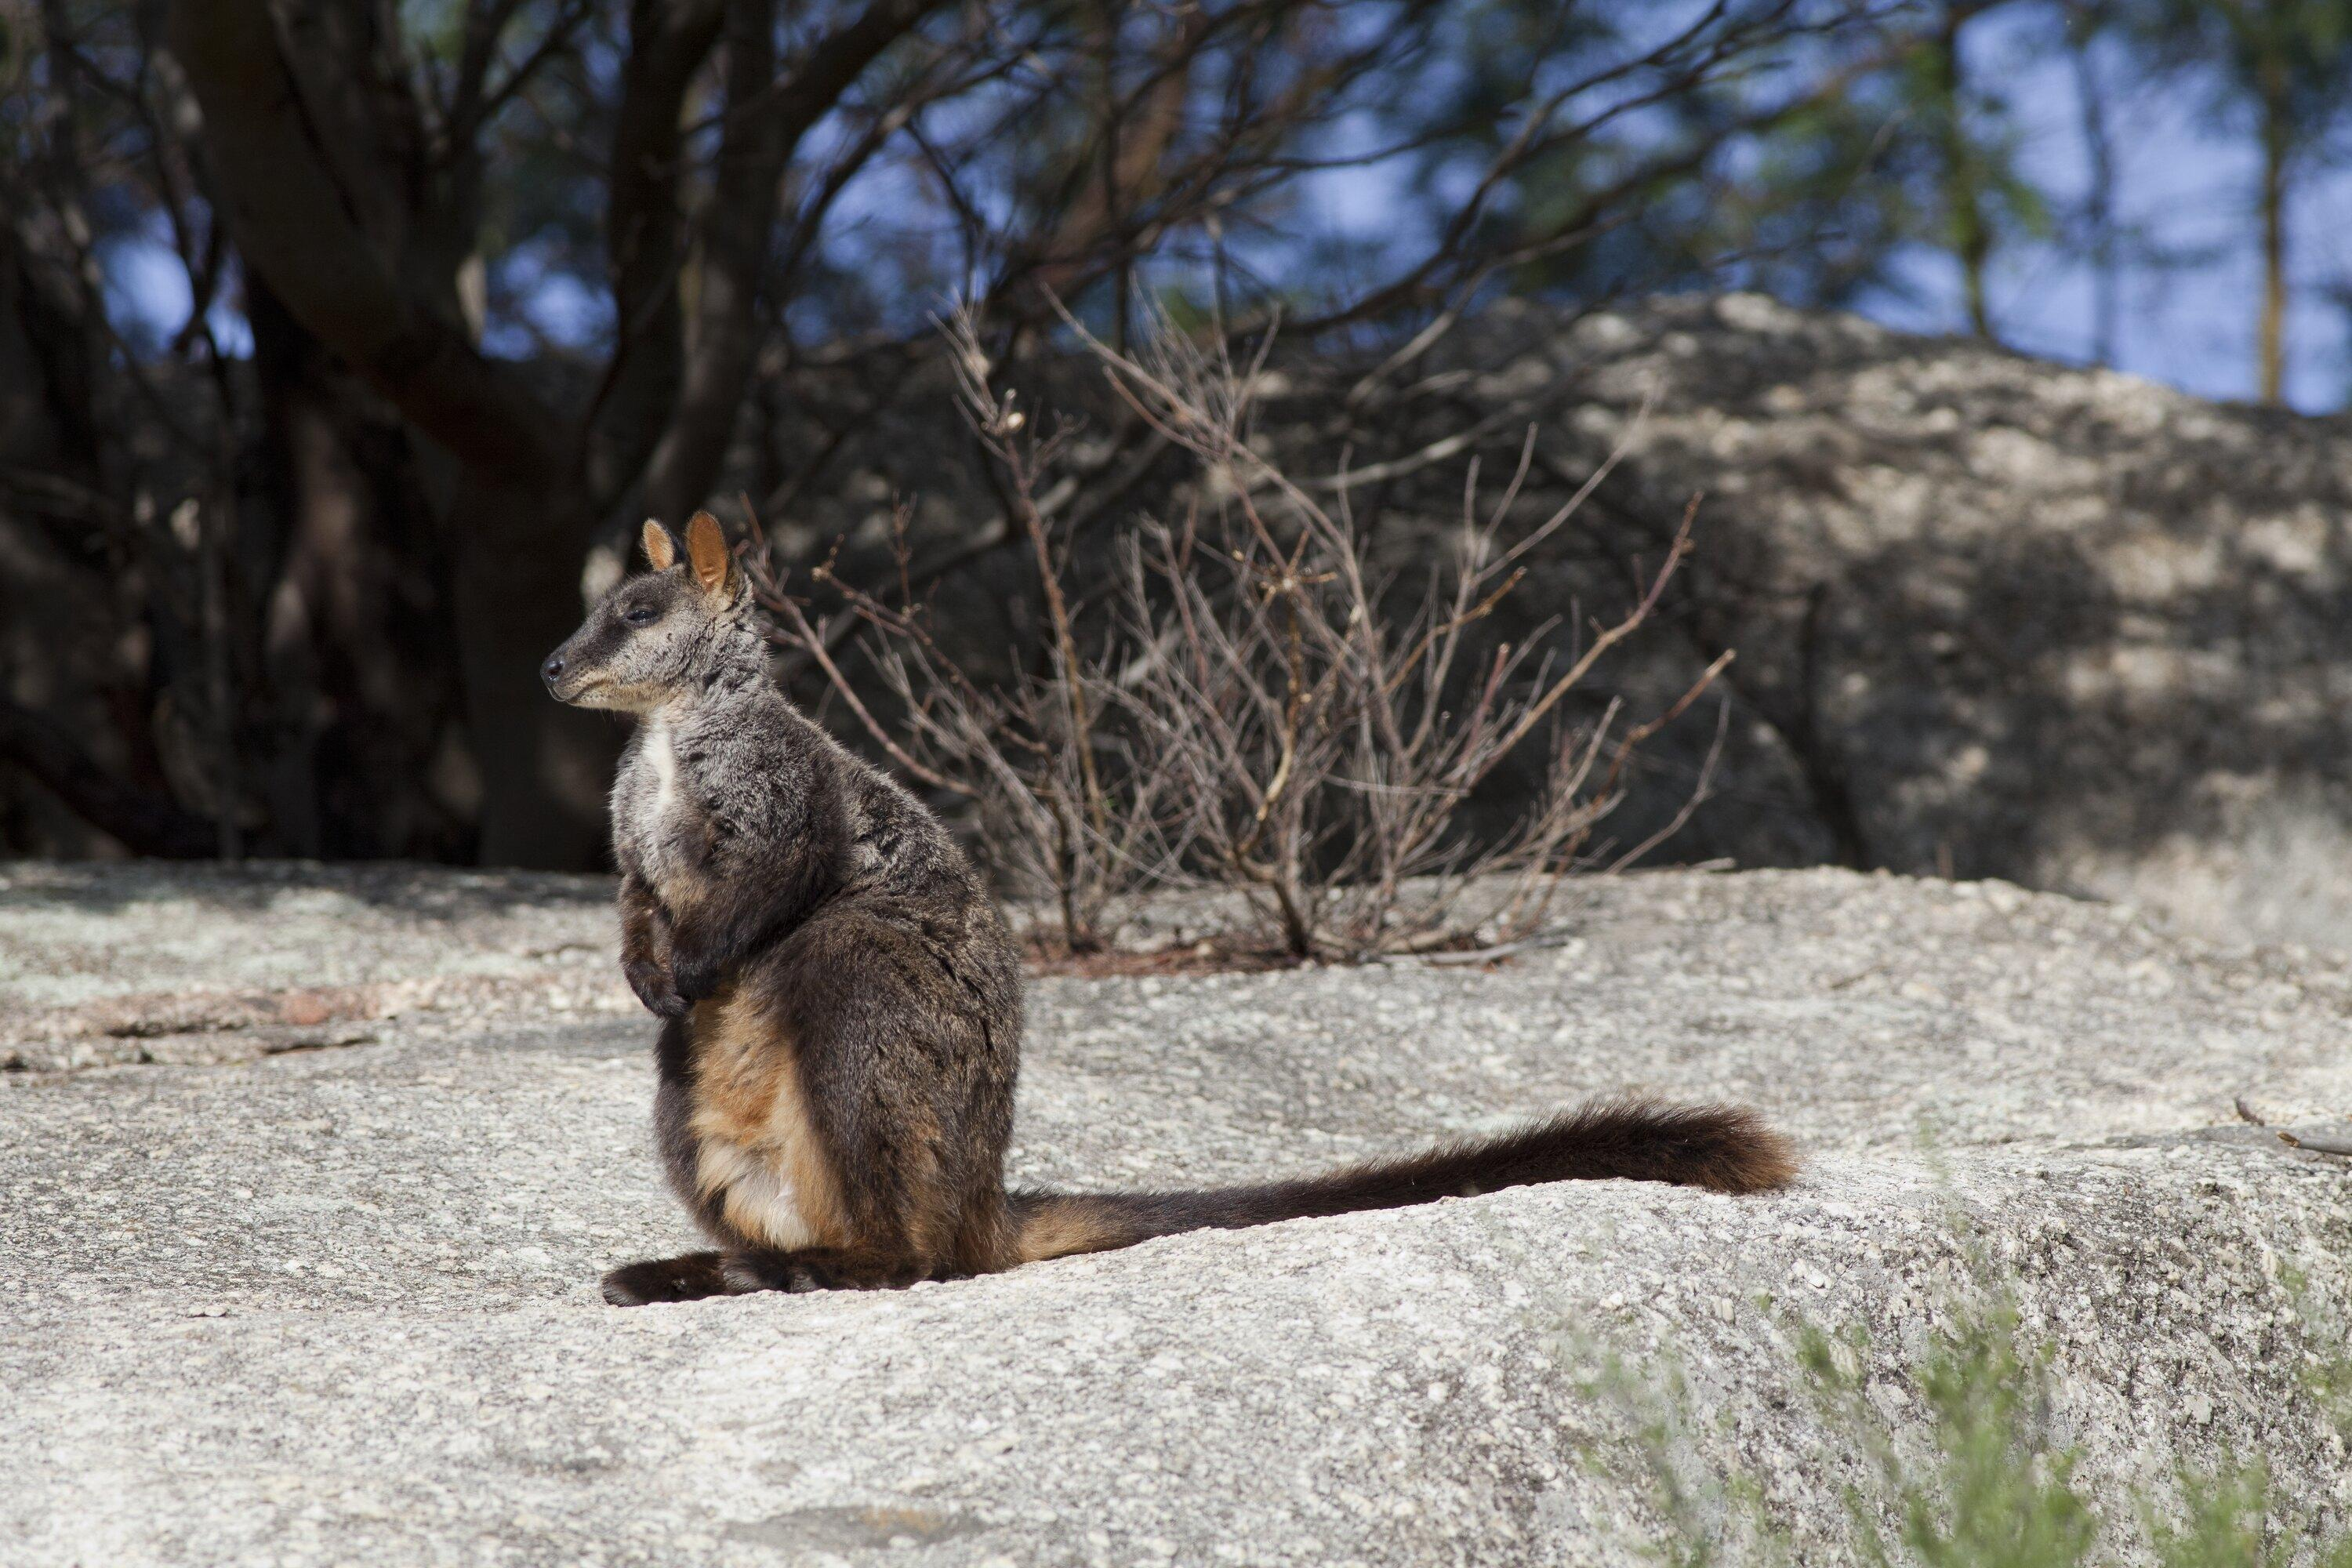Brush-tailed rock-wallaby: (544, 513, 1797, 1309)
